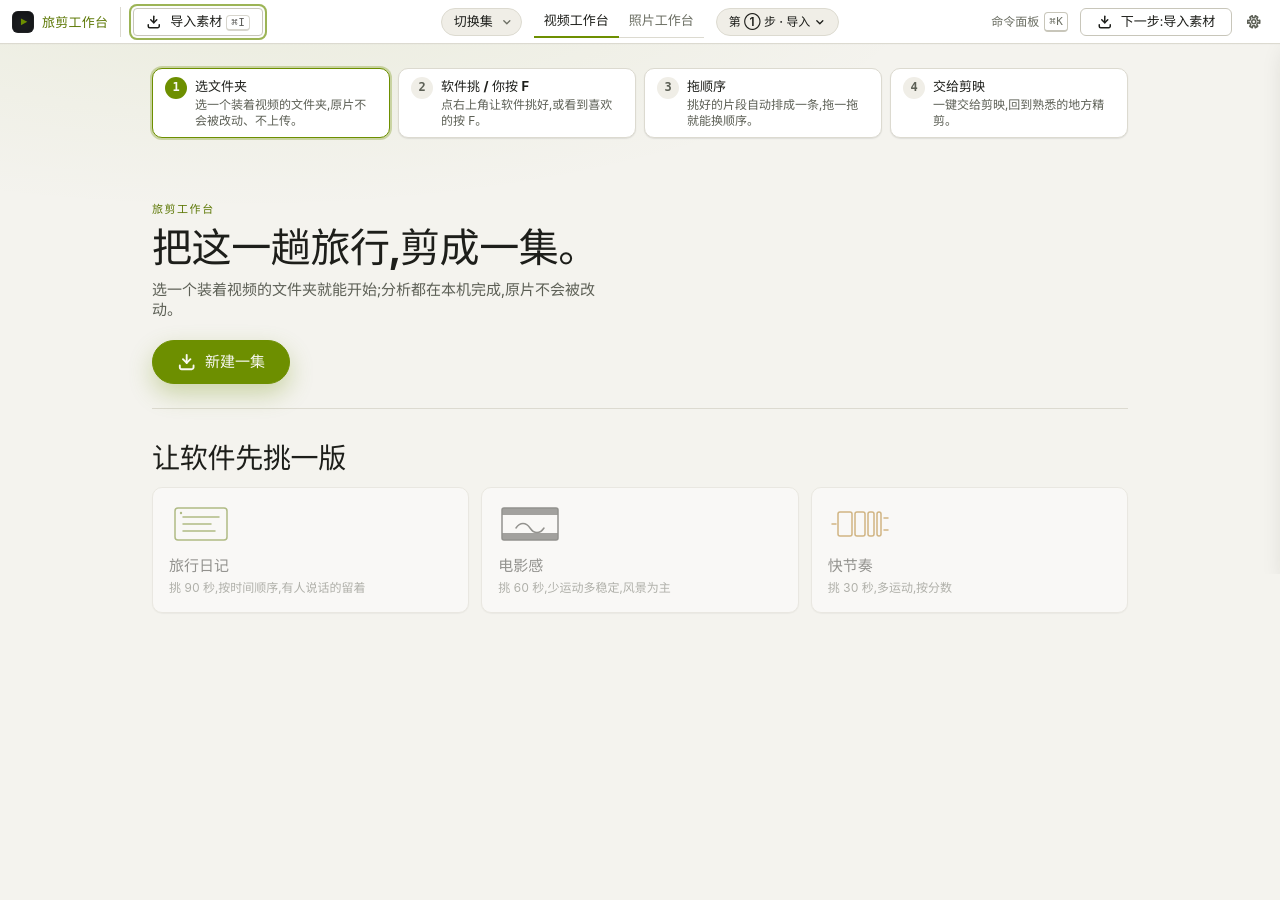
it: 导入抽屉:原生内容(R9 Task 5) › 来源分页:说明 + 「添加素材文件夹」primary + 关注文件夹卡(路径/上次同步/自动同步 switch/移除),没有英文 kicker
Click the button "导入素材 ⌘I" at (198, 22), box [133, 8, 263, 36]
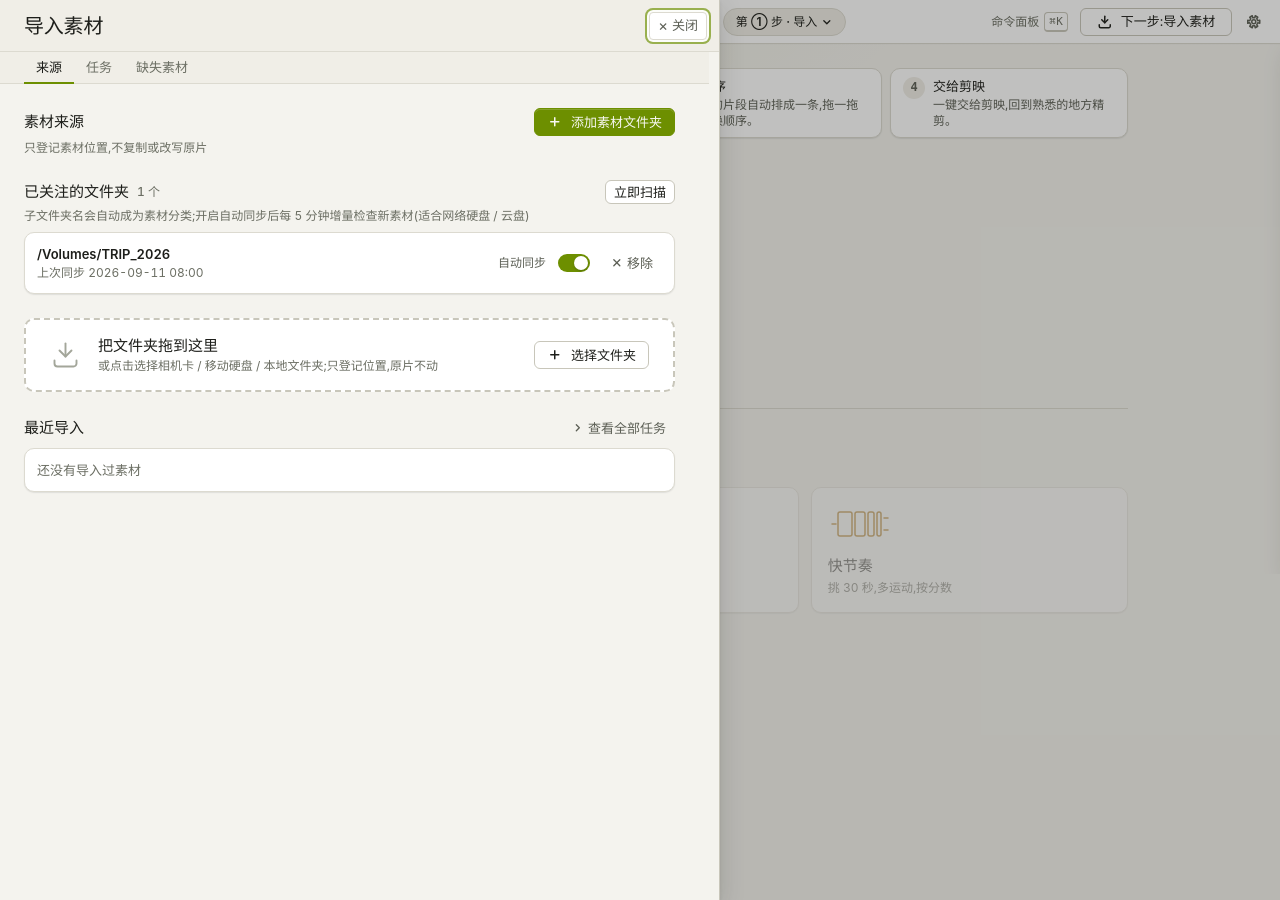
Now the text "只登记素材位置,不复制或改写原片" is shown, box [24, 140, 207, 155]
Now the element named "/Volumes/TRIP_2026" is shown, box [37, 245, 170, 263]
Now the text "上次同步 2026-09-11 08:00" is shown, box [37, 265, 204, 280]
